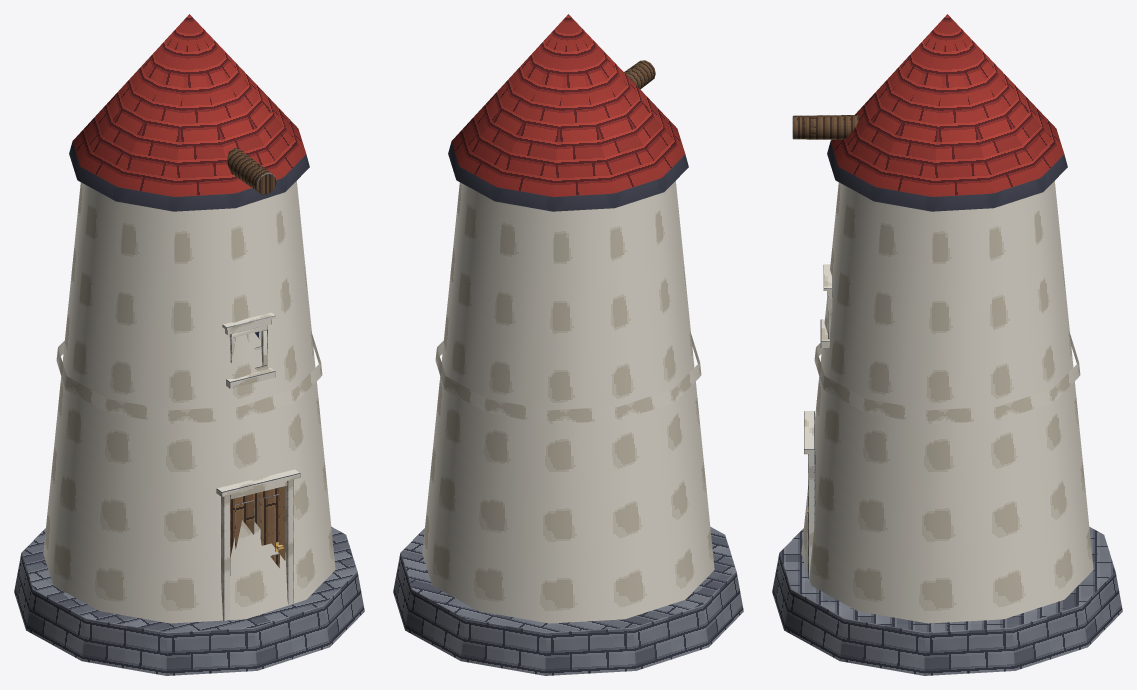
Rendered from windmill_tower_0.glb.
3 renders of one model, left to right at view 1: azimuth 30°, elevation 25°; view 2: azimuth 150°, elevation 25°; view 3: azimuth 270°, elevation 25°, orthographic.
Parts seen in each view (by area): view 1: windmill_tower_1; view 2: windmill_tower_1; view 3: windmill_tower_1.
Part boxes in pixels (left/top/right/bottom): windmill_tower_1: left=14, top=14, right=364, bottom=675; windmill_tower_1: left=393, top=14, right=743, bottom=675; windmill_tower_1: left=772, top=14, right=1122, bottom=675.
Size of the model in its own units: 4.76 by 8.8 by 4.76.
9 materials, 9 textured.
